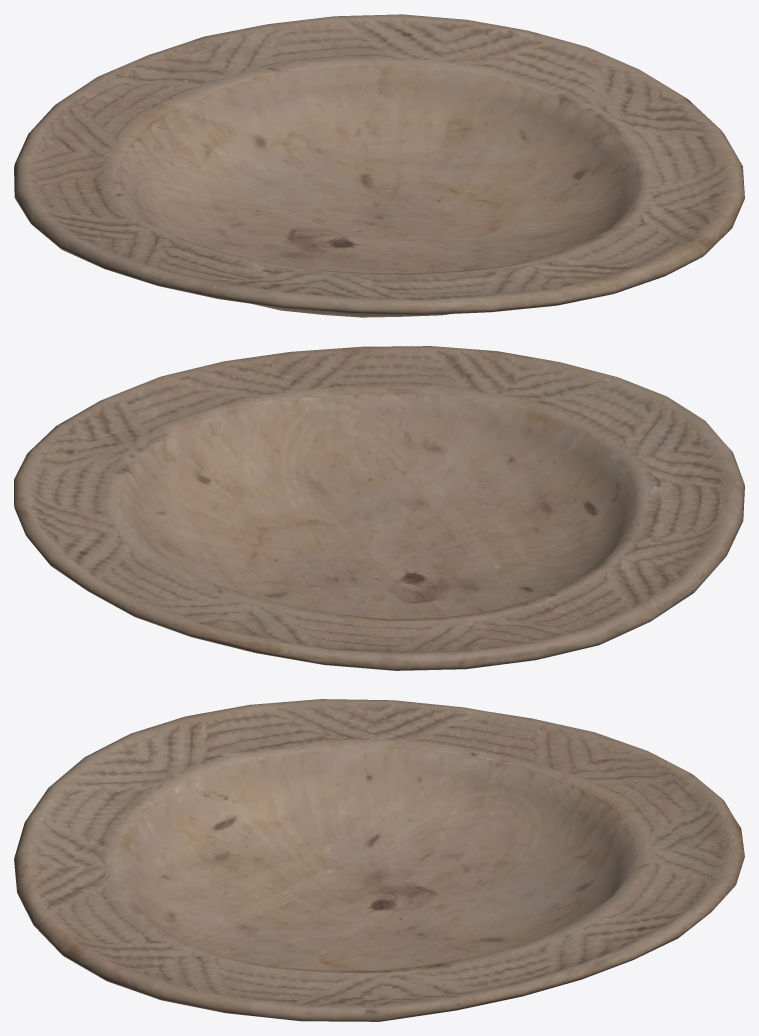
The model's file is universal-ph-carved-plate.glb.
3 renders of one model, top to bottom at view 1: azimuth 30°, elevation 25°; view 2: azimuth 150°, elevation 25°; view 3: azimuth 270°, elevation 25°, orthographic. The views are drawn at different scales.
Parts seen in each view (by area): view 1: carved_wooden_plate; view 2: carved_wooden_plate; view 3: carved_wooden_plate.
Boxes of the visible parts, x1=… form: carved_wooden_plate: x1=14, y1=14, x2=744, y2=317; carved_wooden_plate: x1=14, y1=346, x2=744, y2=670; carved_wooden_plate: x1=14, y1=699, x2=744, y2=1021.
Bounding box in the file's own units: 0.2718 × 0.0381 × 0.2688.
Materials: 1 (1 with a texture image).
